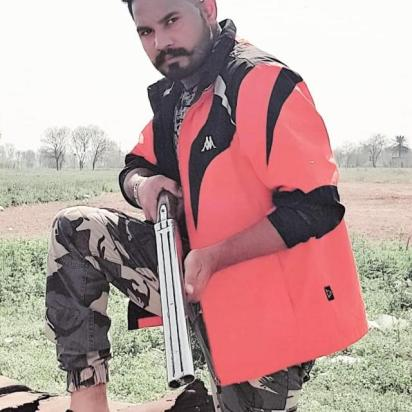Gun: (152, 185, 198, 391)
